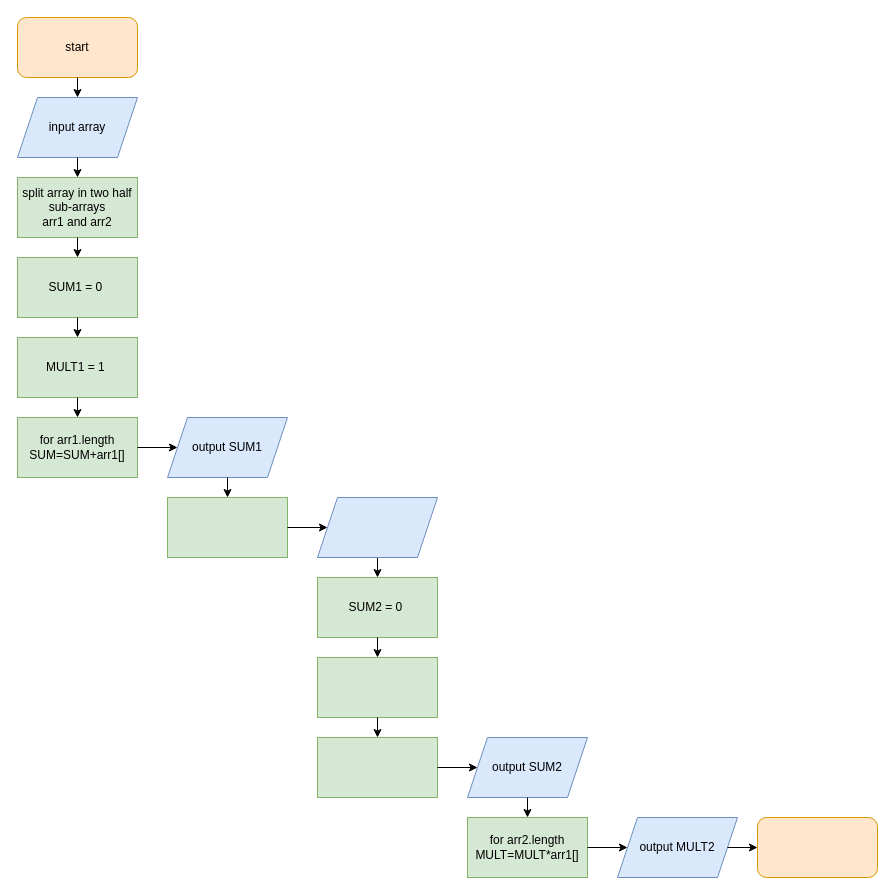
This 895x895 diagram has some shape labels left out. The box of each missing label's shape, as (x1, y1, x2, y2) in pixels:
end: (756, 816, 878, 878)
for arr1.length MULT=MULT*arr1[]: (166, 496, 288, 558)
for arr2.length SUM=SUM+arr1[]: (316, 736, 438, 798)
MULT2 = 1: (316, 656, 438, 718)
output MULT1: (316, 496, 438, 558)
